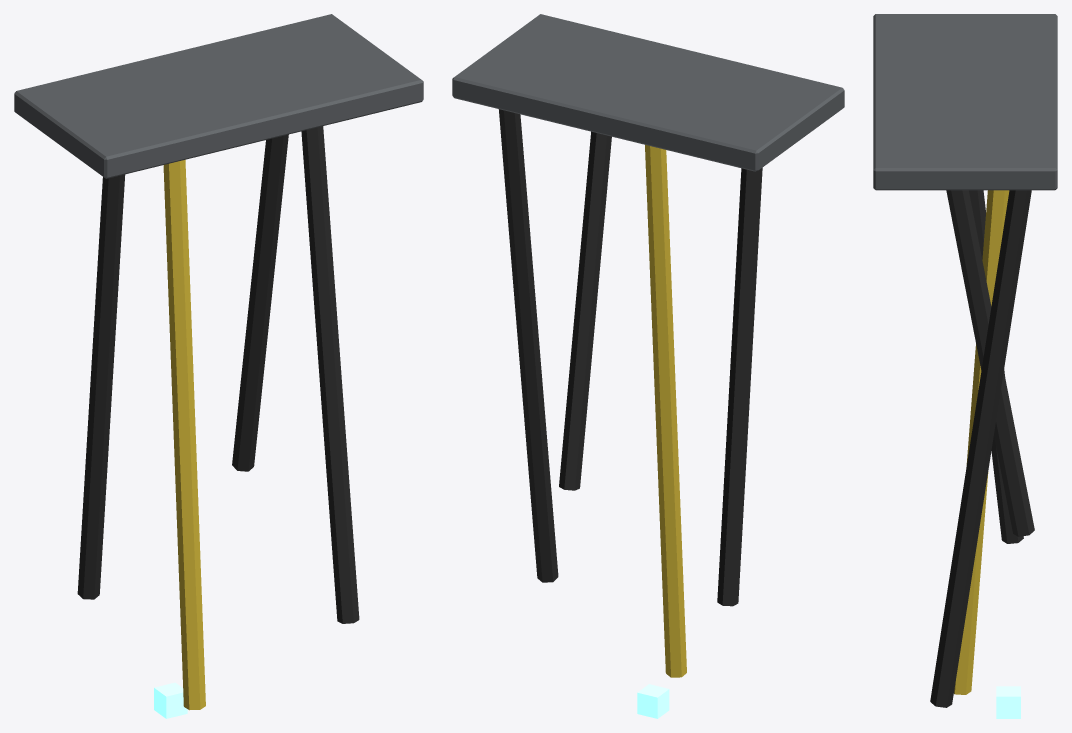
File: hanging_cables.glb
3 views of the same model, side by side, from view 1: azimuth 30°, elevation 25°; view 2: azimuth 150°, elevation 25°; view 3: azimuth 270°, elevation 25° (orthographic). The views are drawn at different scales.
Parts seen in each view (by area): view 1: hanging_cables; view 2: hanging_cables; view 3: hanging_cables.
Part boxes in pixels (x1=…): hanging_cables: x1=14, y1=14, x2=423, y2=718; hanging_cables: x1=452, y1=14, x2=844, y2=718; hanging_cables: x1=873, y1=14, x2=1057, y2=718.
Bounding box in the file's own units: 0.6 × 1.14 × 0.3.
